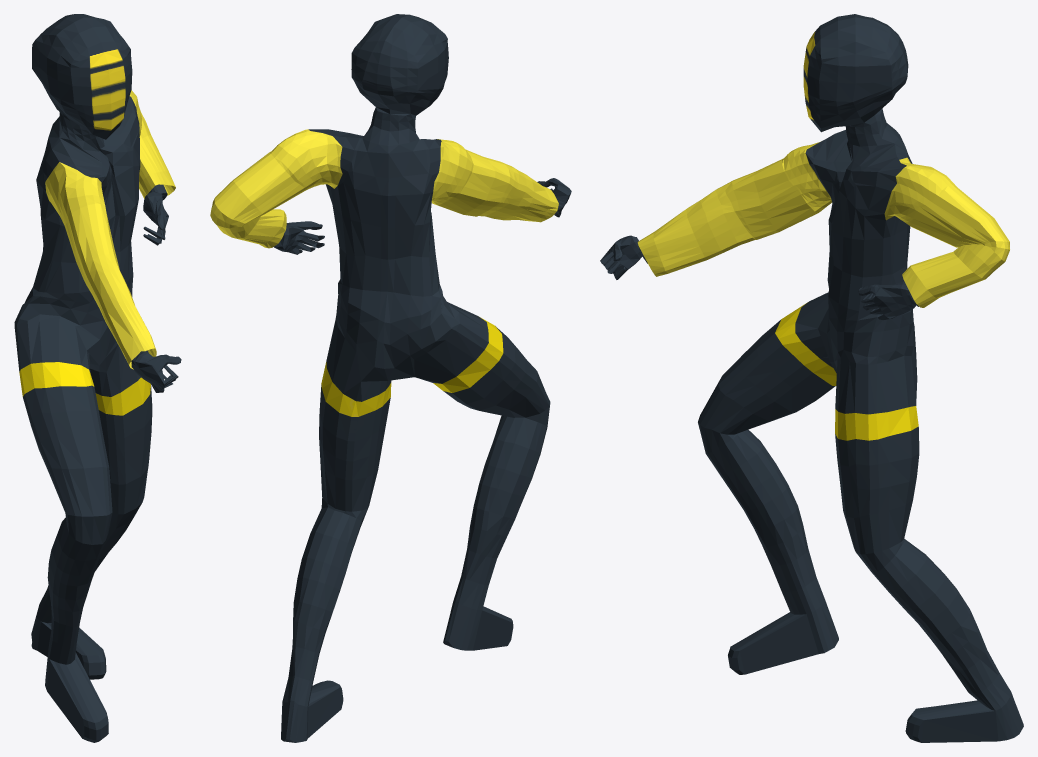
The model's file is Sentry_WF_000021.obj.
3 renders of one model, left to right at view 1: azimuth 30°, elevation 25°; view 2: azimuth 150°, elevation 25°; view 3: azimuth 270°, elevation 25°, orthographic. The views are drawn at different scales.
Visible parts, largest first — view 1: Cube; view 2: Cube; view 3: Cube.
Part boxes in pixels (box(x1,y1,x2,y2)): Cube: box(14, 14, 181, 742); Cube: box(210, 14, 571, 742); Cube: box(600, 14, 1023, 742).
Size of the model in its own units: 1.19 by 3.73 by 2.05.
